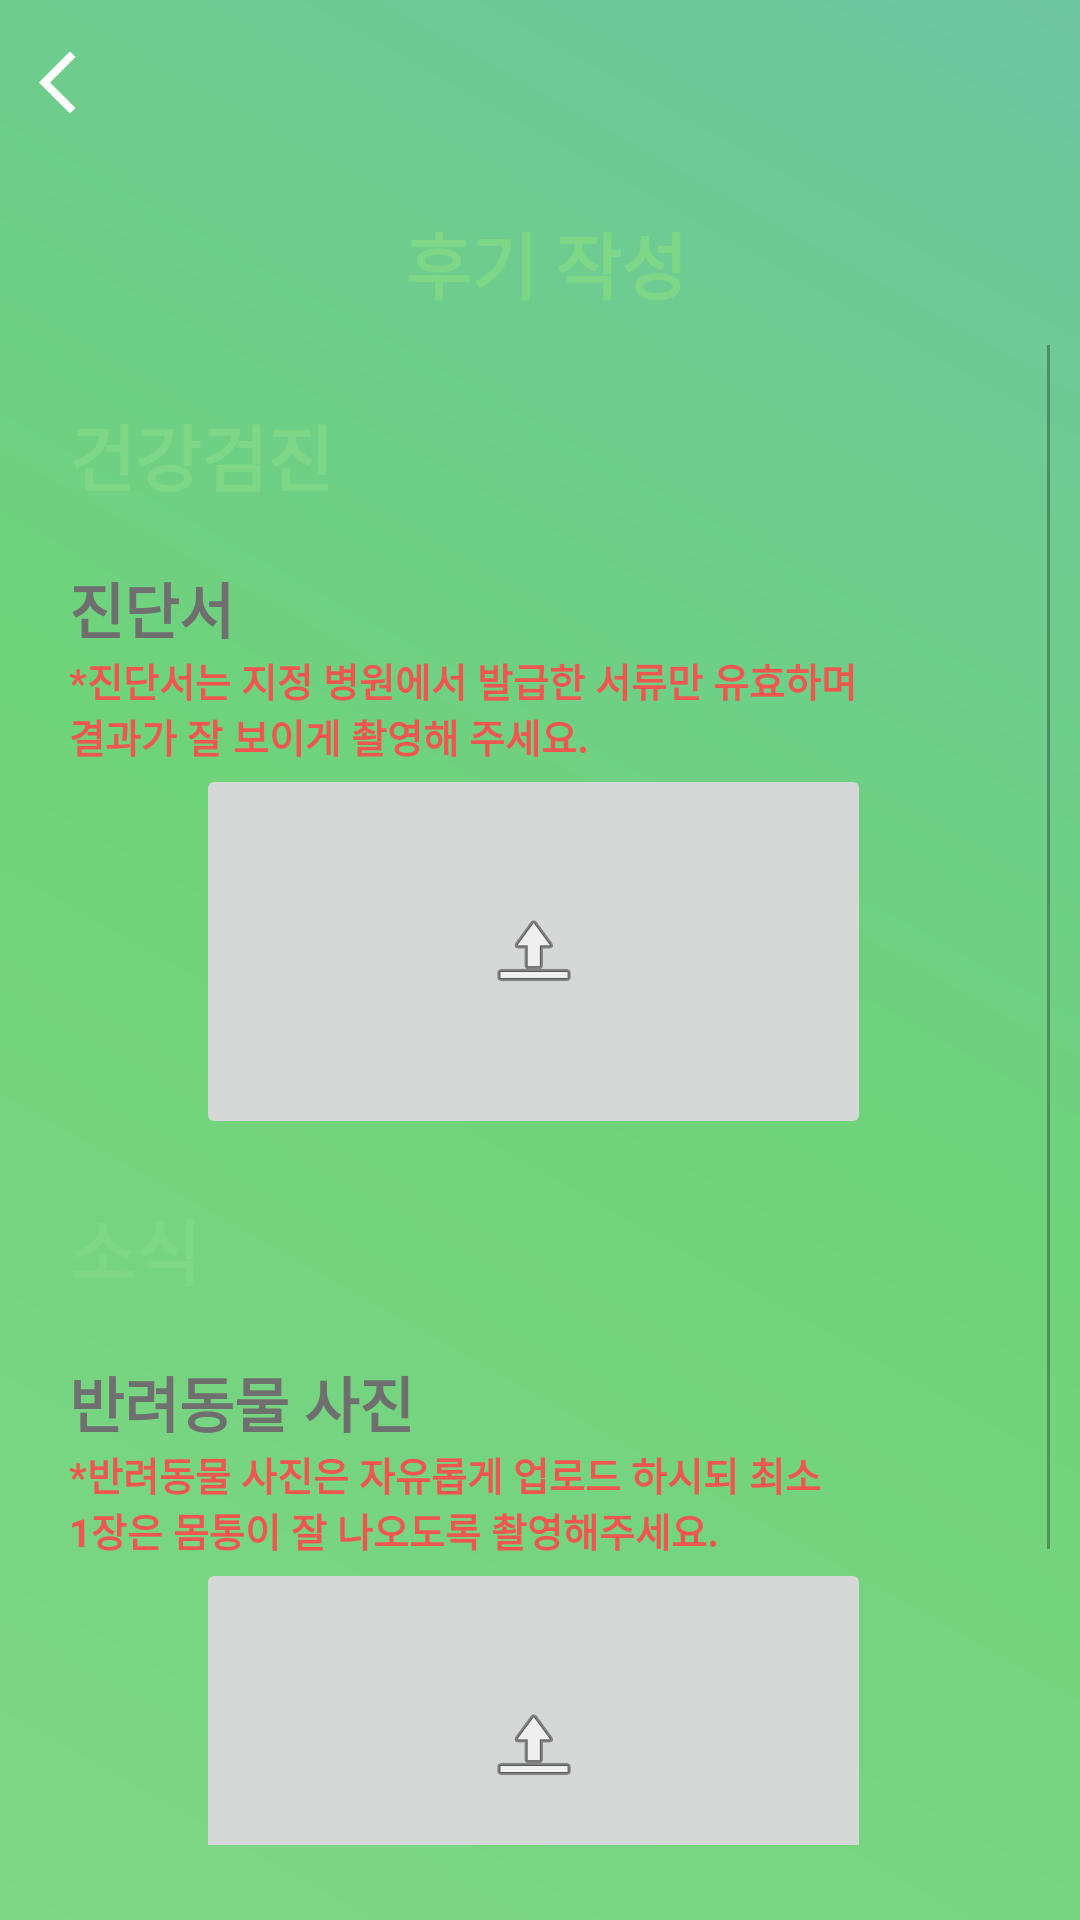

Icons on this 1080px x 1920px Android screen, each with its box as BBox(x1, y1, x2, y2):
arrow back: BBox(39, 52, 75, 113)
